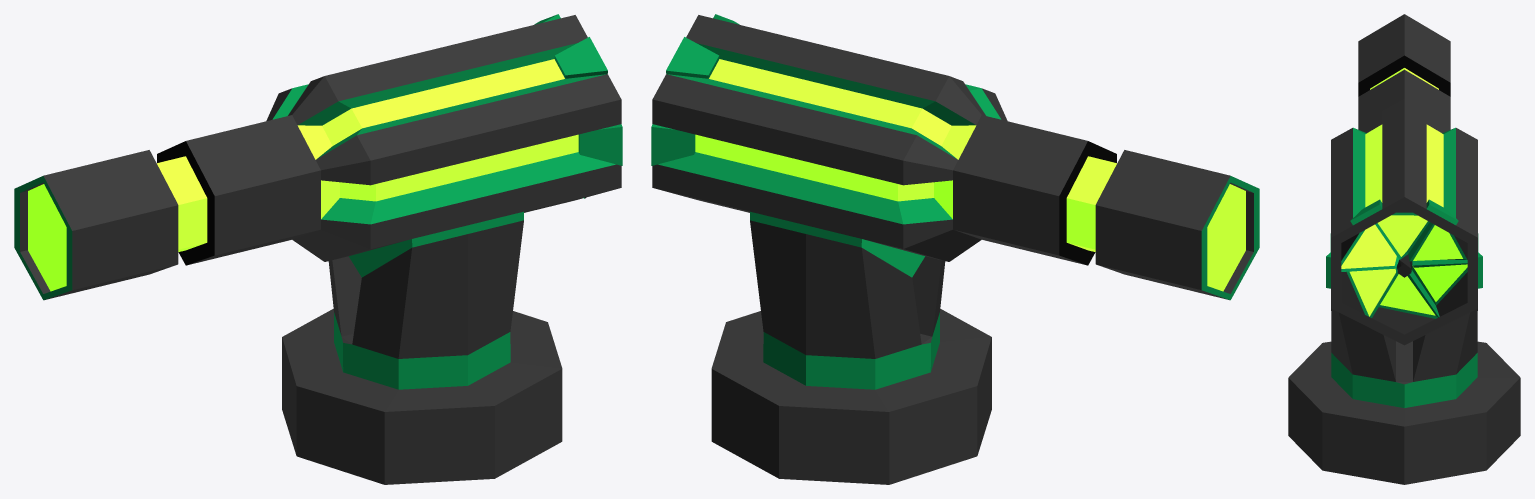
File: TurretWindcannon.fbx
3 renders of one model, left to right at view 1: azimuth 30°, elevation 25°; view 2: azimuth 150°, elevation 25°; view 3: azimuth 270°, elevation 25°, orthographic. The views are drawn at different scales.
Visible parts, largest first — view 1: WindGun; view 2: WindGun; view 3: WindGun.
Boxes of the visible parts, x1,y1,x2,y2 form: WindGun: (14, 14, 622, 484); WindGun: (651, 14, 1259, 484); WindGun: (1288, 14, 1520, 484).
Bounding box in the file's own units: 1394 × 935 × 658.
